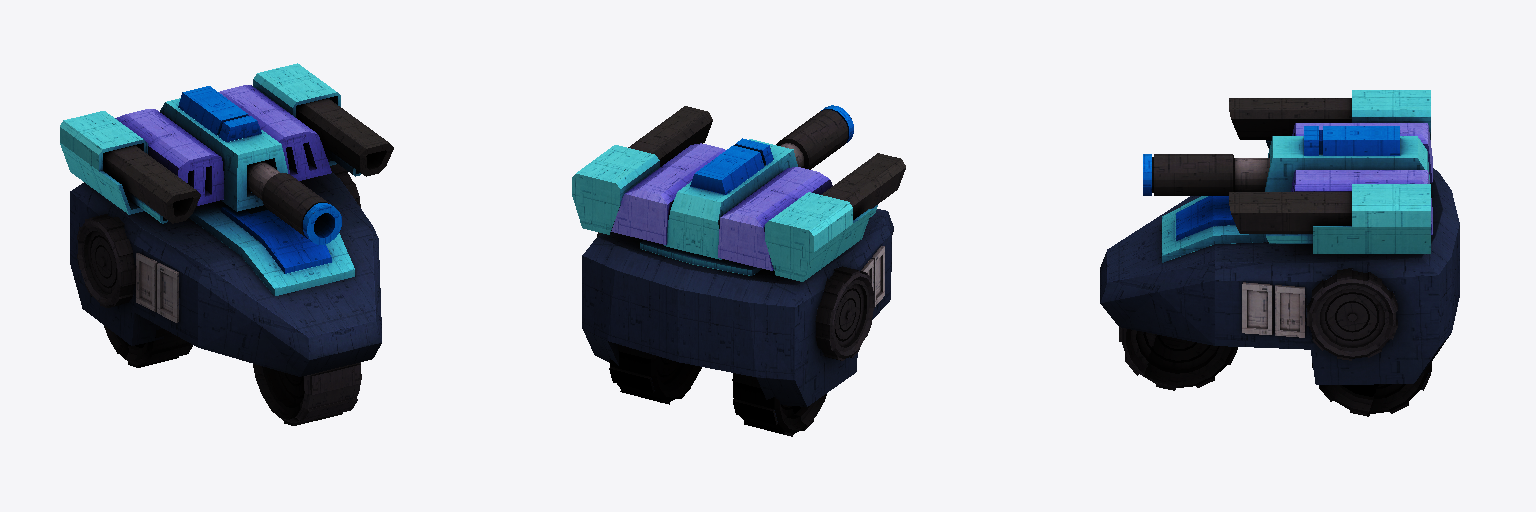
3 views of the same model, side by side, from view 1: azimuth 30°, elevation 25°; view 2: azimuth 150°, elevation 25°; view 3: azimuth 270°, elevation 25° (orthographic).
Visible parts, largest first — view 1: Object001, Object002, Object004, Object003; view 2: Object001, Object002, Object003; view 3: Object001, Object002, Object004, Object003.
Part boxes in pixels (bbox=[...]): Object001: bbox=[70, 85, 381, 376]; Object002: bbox=[60, 63, 393, 223]; Object004: bbox=[253, 362, 361, 425]; Object003: bbox=[104, 326, 192, 367]; Object001: bbox=[582, 105, 893, 406]; Object002: bbox=[572, 106, 905, 281]; Object003: bbox=[609, 345, 826, 436]; Object001: bbox=[1100, 123, 1459, 384]; Object002: bbox=[1229, 90, 1430, 253]; Object004: bbox=[1119, 327, 1237, 390]; Object003: bbox=[1312, 362, 1431, 416].
Bounding box in the file's own units: 93.13 × 89.74 × 119.
1 materials, 1 textured.